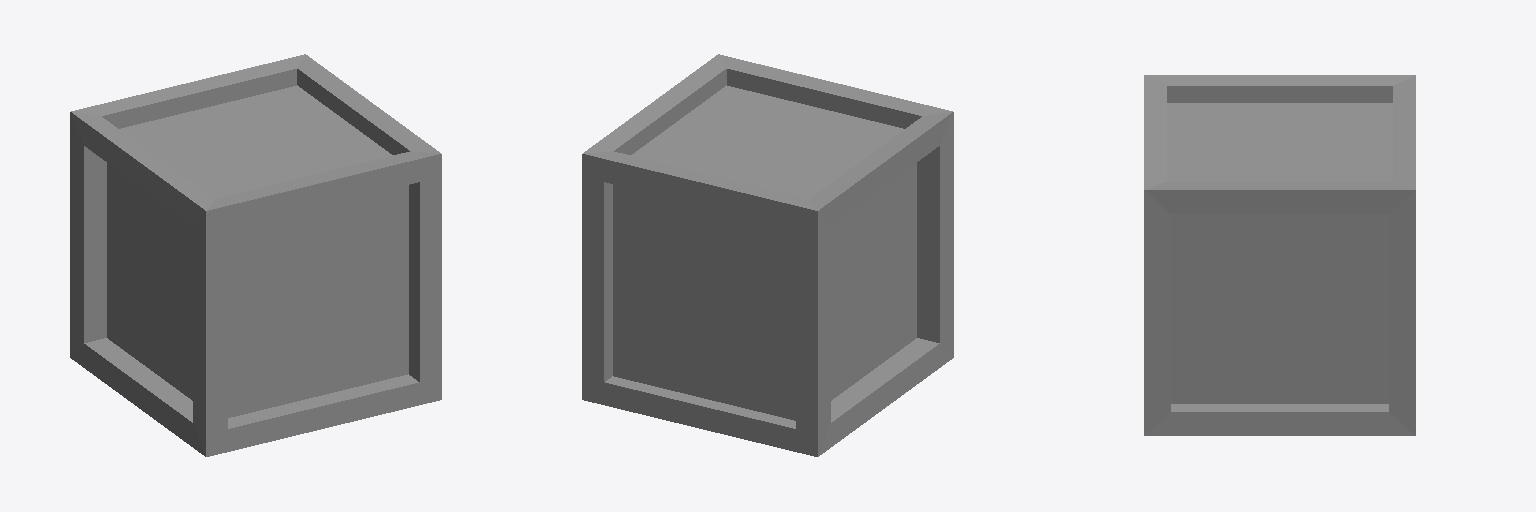
The model's file is squareFrame.obj.
3 views of the same model, side by side, from view 1: azimuth 30°, elevation 25°; view 2: azimuth 150°, elevation 25°; view 3: azimuth 270°, elevation 25° (orthographic).
Visible parts, largest first — view 1: Cube; view 2: Cube; view 3: Cube.
Part boxes in pixels (bbox=[...]): Cube: bbox=[70, 54, 441, 456]; Cube: bbox=[582, 54, 953, 456]; Cube: bbox=[1144, 75, 1415, 435].
Bounding box in the file's own units: 2 × 2 × 2.